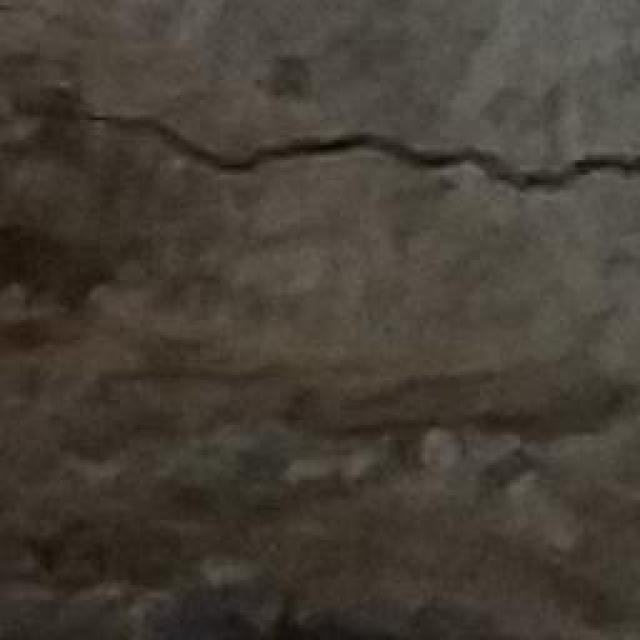Transverse: (7, 72, 640, 216)
